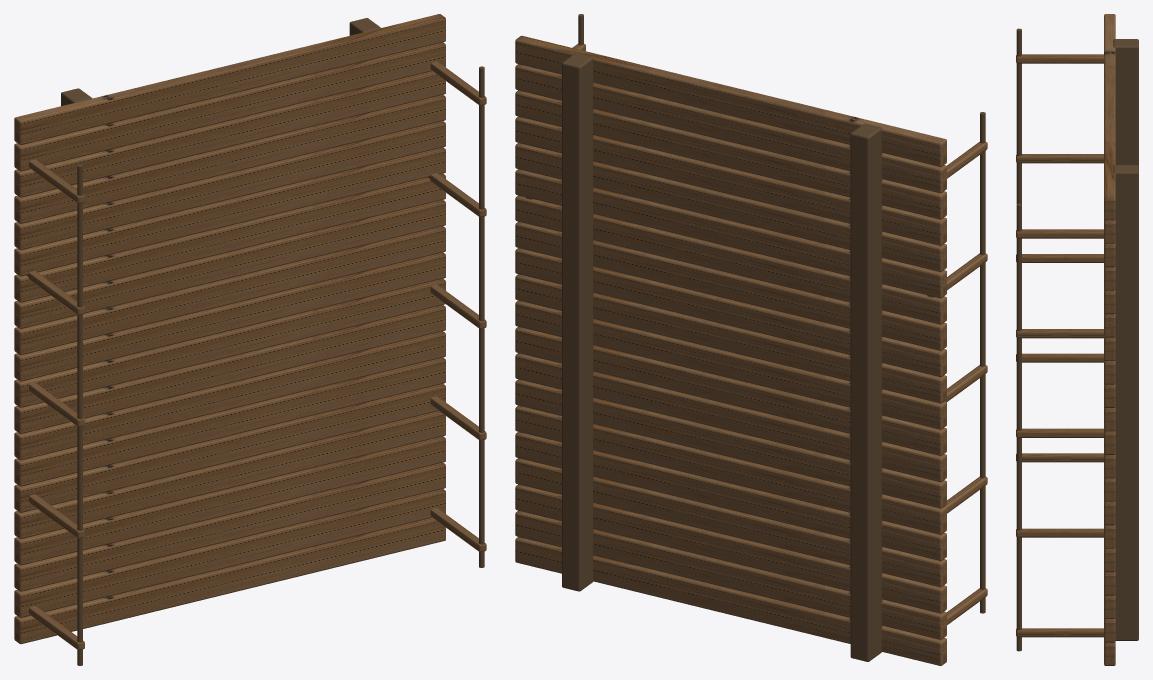
The model's file is drawbridge.glb.
3 views of the same model, side by side, from view 1: azimuth 30°, elevation 25°; view 2: azimuth 150°, elevation 25°; view 3: azimuth 270°, elevation 25° (orthographic). The views are drawn at different scales.
Visible parts, largest first — view 1: bridge plank, stringer; view 2: bridge plank, stringer; view 3: stringer, bridge plank.
Boxes of the visible parts, left/top/right/bottom form: bridge plank: left=14, top=14, right=486, bottom=650; stringer: left=61, top=18, right=484, bottom=665; bridge plank: left=515, top=35, right=987, bottom=665; stringer: left=562, top=14, right=985, bottom=661; stringer: left=1016, top=28, right=1138, bottom=651; bridge plank: left=1016, top=14, right=1115, bottom=665.
Size of the model in its own units: 6.8 by 8 by 1.9.
Materials: 2 (1 with a texture image).
